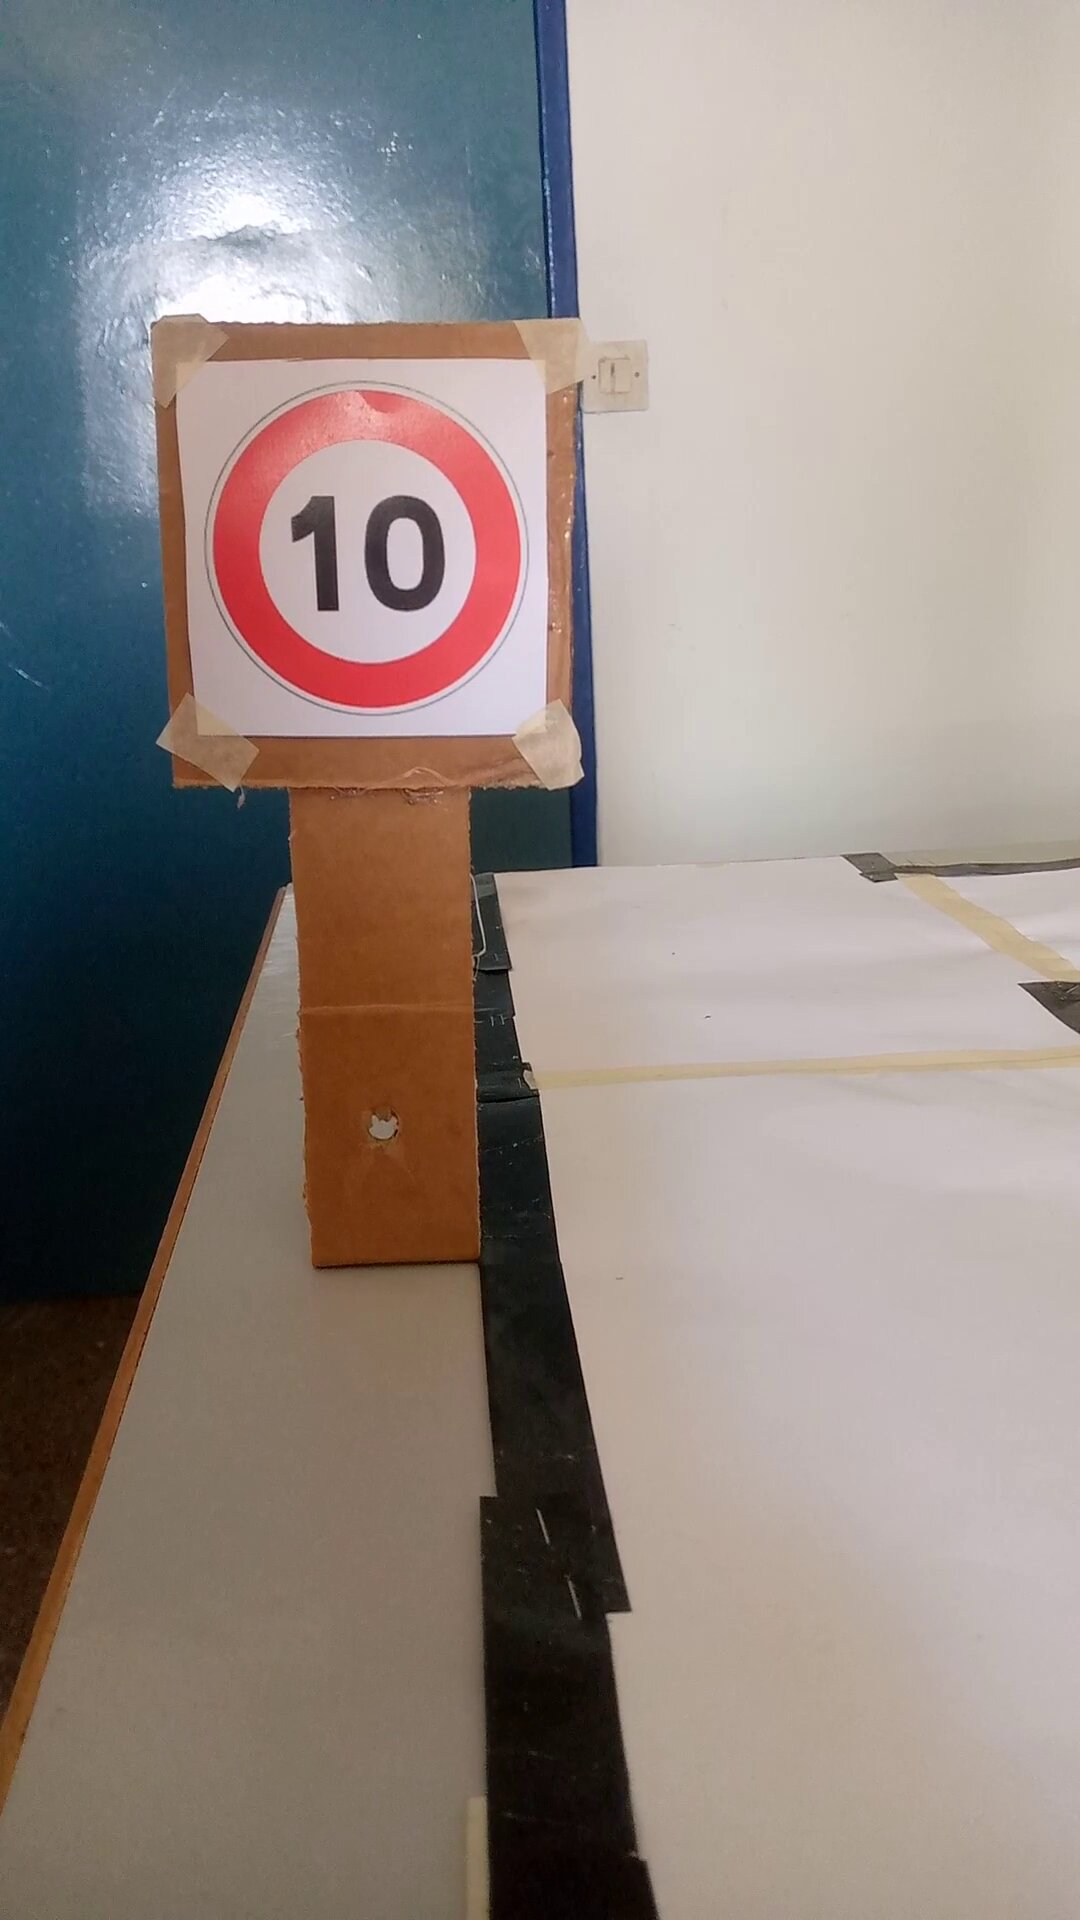panel011: (170, 357, 550, 735)
